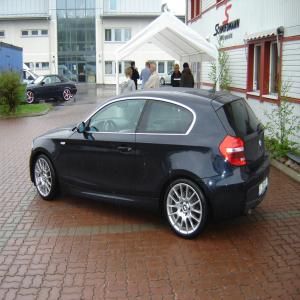Vehicle-registration-plate: (260, 176, 269, 197)
